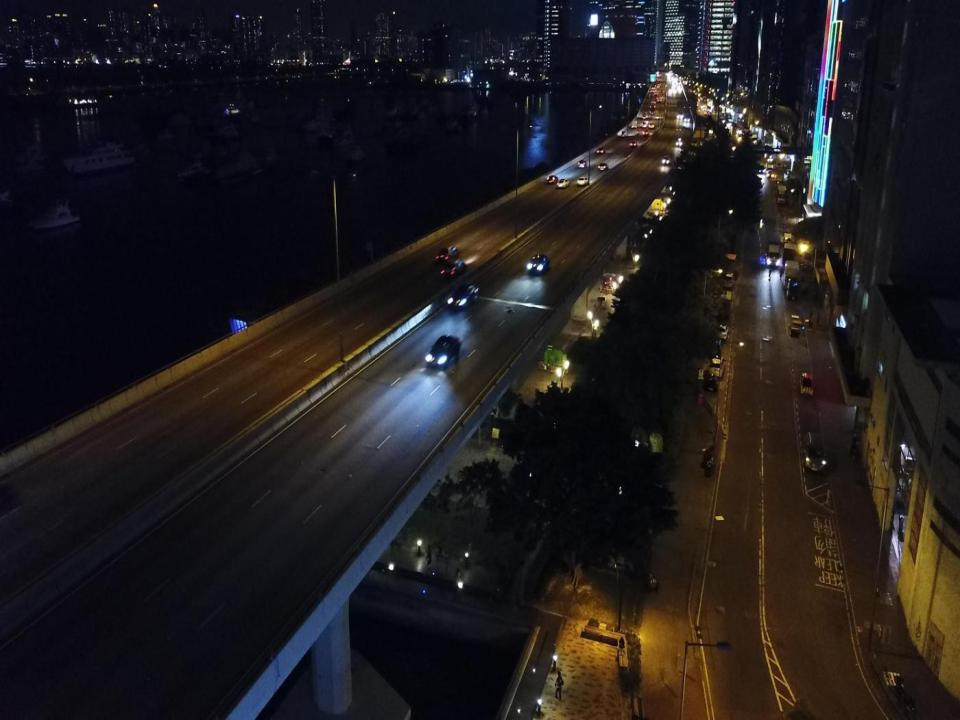bus: (648, 99, 656, 115)
car: (427, 334, 462, 368), (450, 284, 478, 308), (527, 253, 550, 273), (441, 260, 465, 278), (436, 246, 459, 263), (799, 371, 814, 396), (702, 373, 718, 391), (787, 280, 798, 300), (715, 324, 728, 340), (557, 178, 570, 188), (577, 176, 589, 185), (577, 159, 587, 168), (597, 162, 608, 170), (547, 176, 558, 184), (662, 156, 670, 164), (766, 154, 774, 162), (597, 147, 606, 154), (677, 109, 683, 118), (684, 115, 690, 123), (676, 138, 682, 146), (629, 140, 637, 146), (642, 130, 649, 135), (640, 122, 648, 126), (648, 122, 653, 127), (642, 112, 646, 118)
truck: (766, 233, 780, 268), (784, 258, 799, 288), (720, 290, 732, 317), (783, 242, 796, 265), (776, 185, 787, 204), (775, 164, 784, 184), (766, 163, 774, 178), (631, 120, 638, 128)
van: (804, 430, 827, 472), (709, 354, 725, 378), (722, 272, 734, 288), (621, 131, 626, 137)
